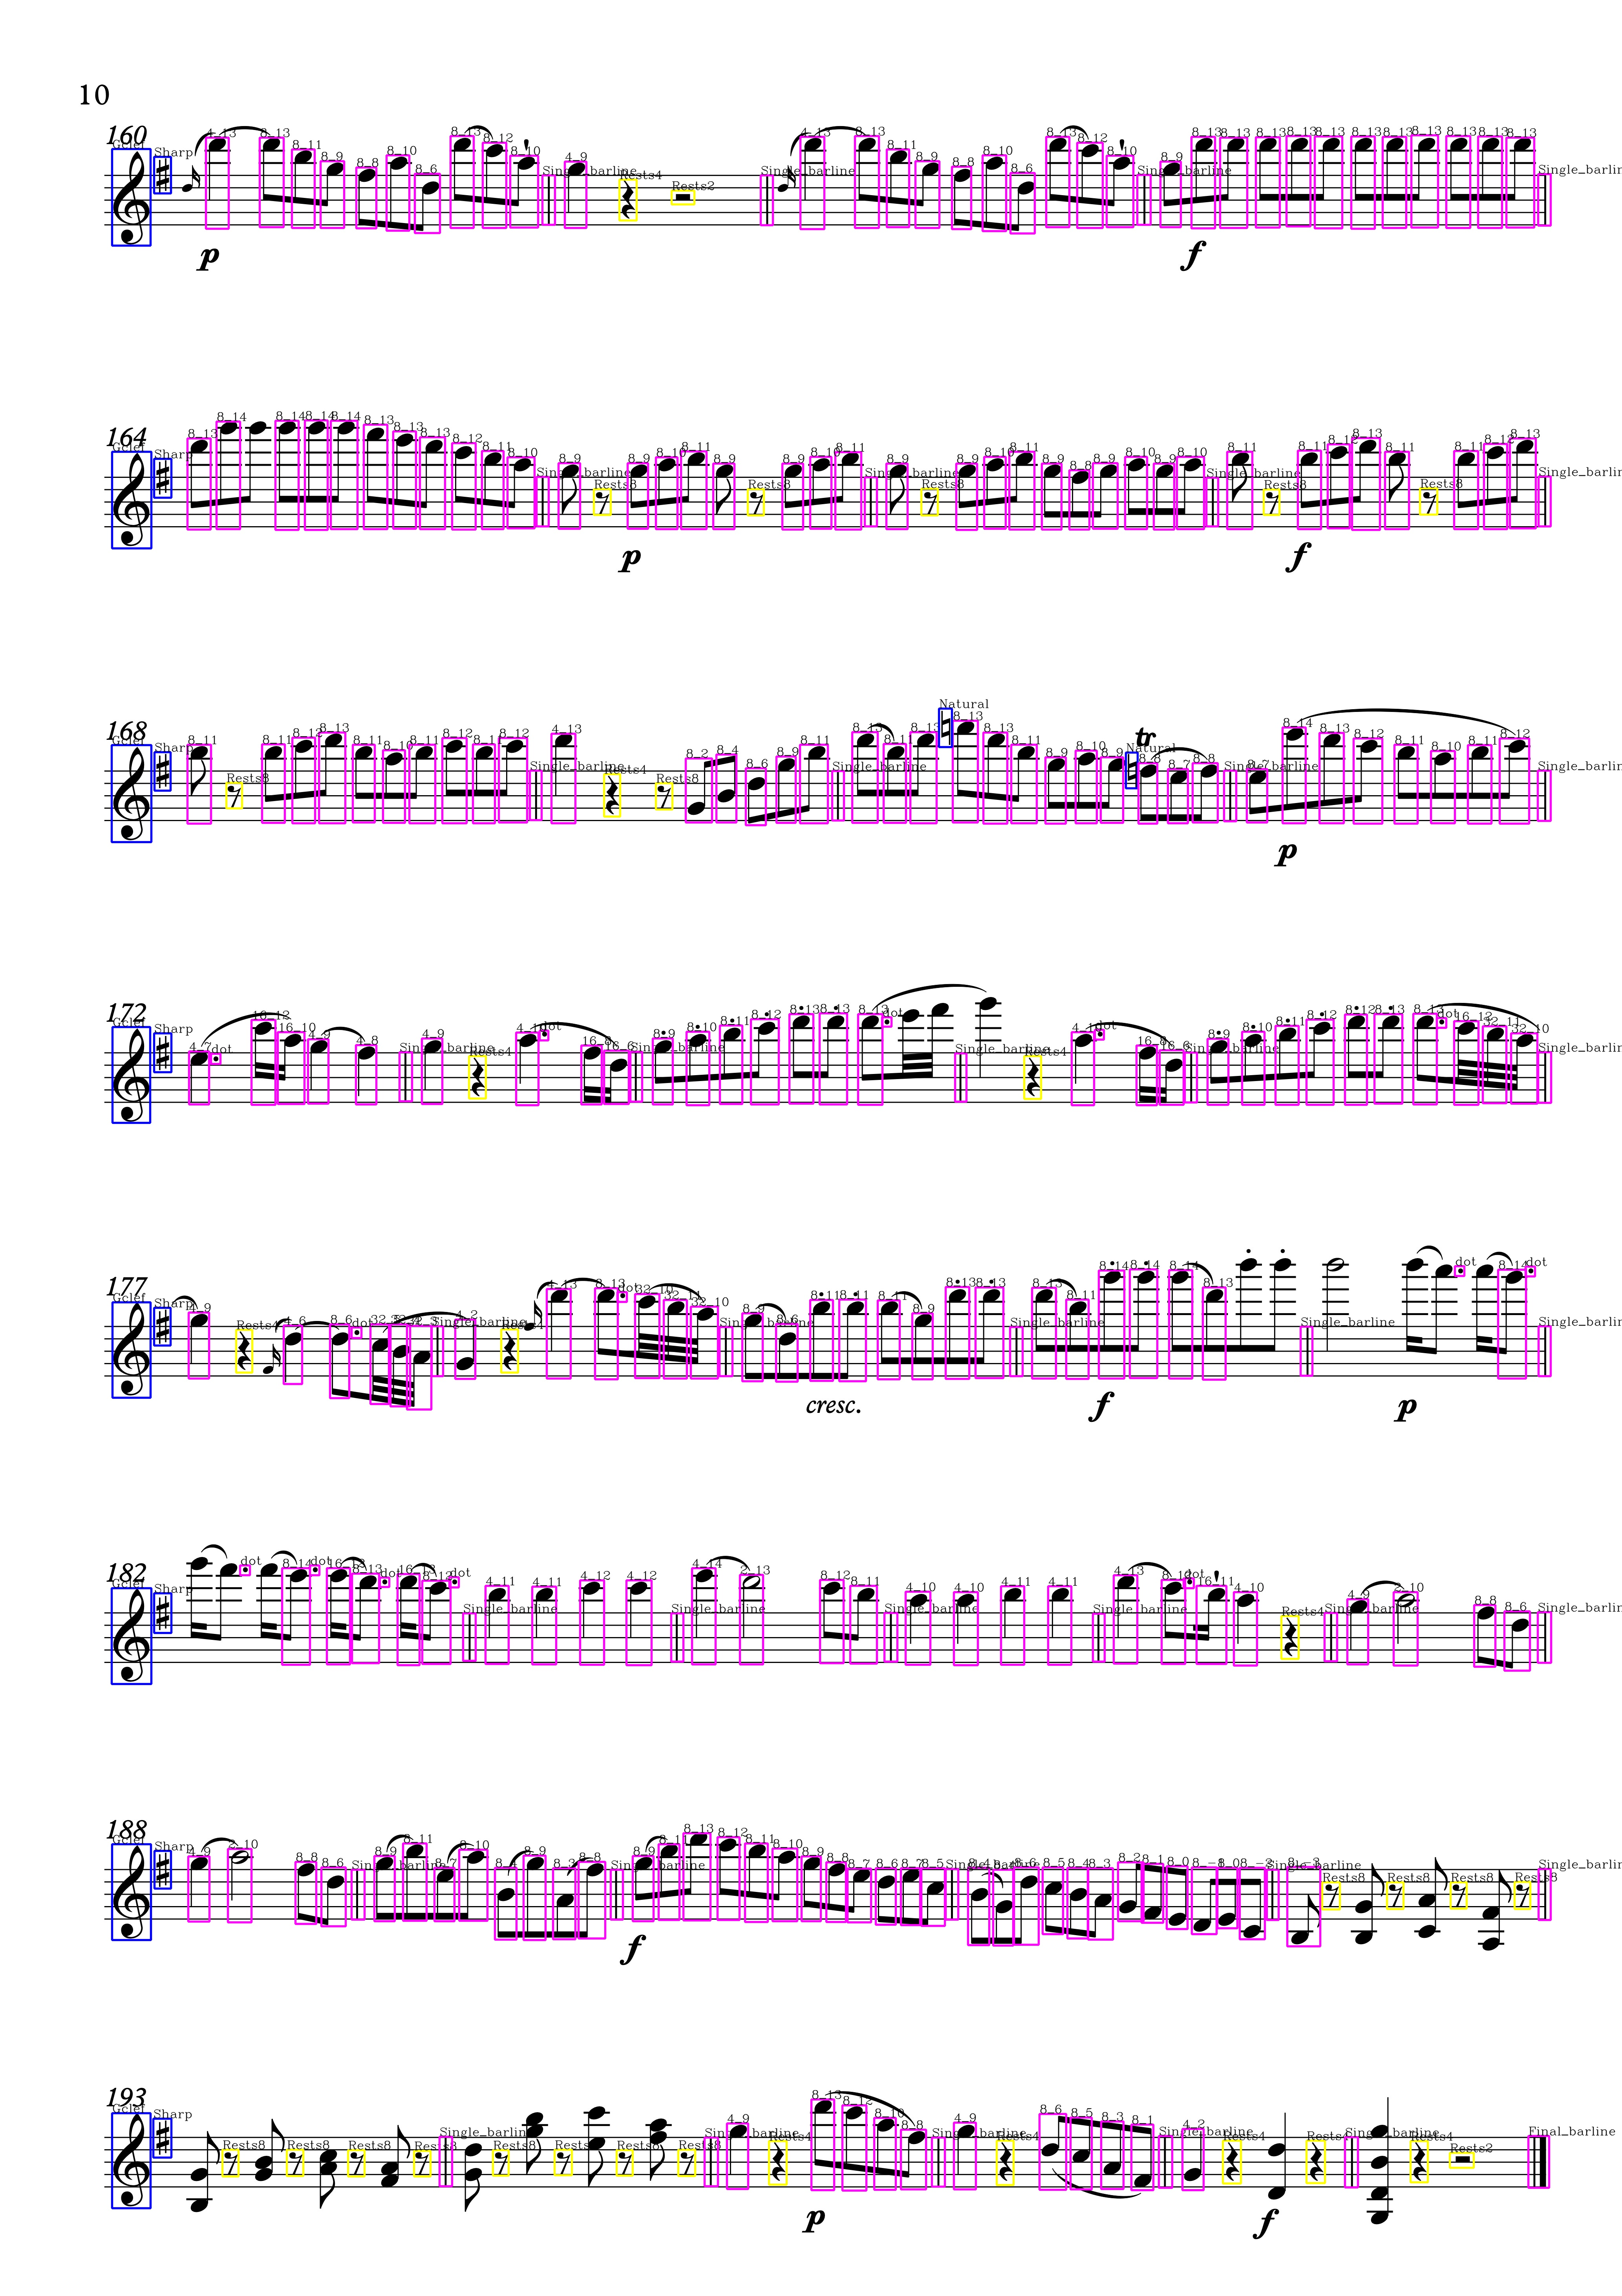16_10: (277, 1032, 304, 1104)
16_11: (1197, 1585, 1227, 1664)
16_12: (327, 1568, 349, 1664), (251, 1020, 276, 1104), (1453, 1022, 1478, 1104)
16_13: (397, 1575, 420, 1666)
16_6: (604, 1050, 628, 1104), (1160, 1050, 1183, 1104)
16_8: (1136, 1046, 1157, 1106), (581, 1046, 602, 1104)
2_10: (1394, 1592, 1417, 1666), (228, 1848, 251, 1922)
2_13: (739, 1575, 764, 1664)
32_10: (635, 1294, 660, 1378), (690, 1306, 718, 1378), (1511, 1034, 1538, 1104)
32_11: (664, 1299, 686, 1378), (1483, 1027, 1506, 1102)
32_3: (407, 1325, 432, 1410)
32_4: (390, 1324, 411, 1406)
32_5: (370, 1324, 388, 1404)
4_10: (953, 1592, 978, 1666), (906, 1592, 930, 1664), (516, 1032, 539, 1106), (1071, 1032, 1094, 1106), (1234, 1592, 1257, 1666)
4_11: (484, 1585, 509, 1664), (532, 1587, 556, 1664), (1001, 1587, 1023, 1664), (1048, 1587, 1071, 1664)
4_12: (627, 1580, 651, 1666), (579, 1580, 604, 1664)
4_13: (551, 734, 576, 823), (546, 1288, 571, 1378), (1113, 1575, 1138, 1664), (205, 137, 228, 228), (800, 137, 823, 228)
4_14: (692, 1568, 716, 1664)
4_2: (1181, 2129, 1204, 2191), (455, 1320, 476, 1378)
4_6: (283, 1325, 302, 1383)
4_7: (190, 1051, 209, 1104)
4_8: (356, 1044, 376, 1104)
4_9: (953, 2122, 976, 2189), (565, 161, 586, 228), (421, 1037, 442, 1104), (188, 1855, 209, 1922), (307, 1039, 328, 1104), (188, 1313, 209, 1378), (1346, 1599, 1367, 1664), (727, 2124, 748, 2189)
8_-1: (1192, 1868, 1216, 1934)
8_-2: (1239, 1868, 1264, 1940)
8_-3: (1287, 1866, 1320, 1947)
8_0: (1216, 1868, 1238, 1927), (1167, 1866, 1187, 1929)
8_1: (1130, 2124, 1153, 2191), (1141, 1864, 1164, 1922)
8_10: (458, 1850, 488, 1920), (1176, 456, 1204, 528), (1106, 156, 1134, 226), (511, 156, 537, 228), (507, 456, 534, 528), (1431, 751, 1455, 823), (772, 1848, 797, 1920), (983, 154, 1006, 232), (386, 154, 409, 230), (383, 750, 405, 823), (686, 1032, 709, 1106), (809, 456, 832, 528), (1241, 1032, 1264, 1104), (1076, 750, 1097, 823), (657, 456, 678, 528), (985, 456, 1006, 528), (1125, 456, 1146, 528), (874, 2117, 895, 2189)
8_11: (800, 744, 829, 823), (839, 1299, 865, 1381), (836, 451, 862, 530), (409, 744, 435, 823), (1011, 744, 1037, 823), (850, 1585, 876, 1664), (1009, 451, 1034, 530), (1468, 744, 1492, 823), (1274, 1025, 1299, 1104), (681, 451, 706, 528), (1227, 451, 1252, 528), (1385, 451, 1410, 528), (1453, 451, 1478, 528), (402, 1843, 427, 1920), (809, 1299, 832, 1381), (291, 149, 314, 228), (188, 744, 211, 823), (262, 744, 284, 823), (472, 744, 495, 823), (883, 744, 906, 823), (1394, 744, 1417, 823), (720, 1025, 743, 1104), (1066, 1299, 1088, 1378), (744, 1843, 767, 1922), (886, 149, 909, 226), (481, 451, 504, 528), (1297, 451, 1320, 528), (878, 1301, 899, 1380), (353, 744, 374, 822), (658, 1845, 679, 1920)
8_12: (1499, 739, 1529, 823), (421, 1580, 451, 1664), (499, 737, 527, 822), (1353, 739, 1382, 823), (751, 1020, 779, 1104), (1306, 1020, 1334, 1104), (451, 442, 476, 530), (1078, 142, 1102, 228), (442, 737, 467, 823), (1345, 1015, 1367, 1104), (483, 142, 506, 228), (291, 737, 314, 823), (843, 2105, 865, 2191), (1327, 444, 1350, 528), (1483, 444, 1506, 528), (1162, 1580, 1185, 1664), (820, 1580, 843, 1662), (718, 1836, 739, 1920)
8_13: (1352, 437, 1380, 530), (1315, 137, 1343, 228), (1506, 137, 1534, 228), (1374, 1015, 1403, 1104), (351, 1573, 379, 1662), (953, 720, 978, 822), (683, 1833, 711, 1920), (1411, 135, 1438, 228), (1220, 137, 1246, 228), (319, 732, 346, 823), (851, 732, 878, 823), (909, 732, 936, 823), (820, 1013, 846, 1104), (976, 1287, 1002, 1378), (1510, 439, 1536, 528), (855, 135, 879, 228), (1255, 137, 1280, 228), (1478, 137, 1503, 228), (420, 437, 444, 528), (983, 732, 1008, 823), (858, 1015, 883, 1104), (451, 135, 474, 228), (1446, 135, 1469, 228), (1202, 1287, 1225, 1380), (1192, 137, 1215, 228), (1287, 135, 1310, 226), (1352, 137, 1374, 228), (1383, 137, 1406, 228), (188, 439, 211, 530), (1320, 732, 1343, 823), (1413, 1013, 1436, 1104), (595, 1288, 618, 1380), (946, 1287, 969, 1378), (811, 2099, 834, 2191), (260, 137, 283, 226), (1046, 137, 1069, 226), (790, 1015, 813, 1104), (1032, 1288, 1055, 1378)
8_13_error: (363, 425, 388, 528), (393, 432, 416, 528)
8_14: (1497, 1269, 1525, 1378), (1130, 1269, 1157, 1378), (1099, 1271, 1123, 1378), (283, 1568, 309, 1664), (1169, 1269, 1192, 1378), (1283, 727, 1306, 823)
8_14_error: (330, 421, 358, 528), (216, 421, 240, 528), (305, 420, 328, 530), (276, 421, 298, 530)
8_2: (686, 758, 713, 822), (1118, 1862, 1143, 1920)
8_3: (1088, 1868, 1113, 1940), (553, 1868, 576, 1940), (1101, 2120, 1123, 2189)
8_4: (967, 1868, 988, 1945), (495, 1868, 516, 1940), (1067, 1868, 1088, 1938), (994, 1869, 1013, 1945), (716, 755, 736, 822)
8_5: (1071, 2117, 1092, 2189), (922, 1868, 944, 1926), (1043, 1868, 1062, 1934)
8_6: (1039, 2113, 1066, 2189), (1015, 1868, 1039, 1945), (414, 174, 441, 233), (1504, 1611, 1529, 1671), (330, 1324, 349, 1397), (321, 1868, 346, 1926), (1011, 172, 1034, 233), (776, 1324, 797, 1381), (746, 769, 765, 825), (876, 1868, 895, 1924)
8_7: (848, 1868, 871, 1922), (1167, 769, 1188, 823), (901, 1868, 920, 1926), (1246, 769, 1267, 822), (434, 1868, 455, 1920)
8_8: (578, 1862, 606, 1938), (1192, 764, 1218, 822), (901, 2129, 925, 2189), (1475, 1604, 1496, 1666), (295, 1862, 316, 1924), (356, 167, 376, 228), (951, 167, 971, 228), (1069, 470, 1088, 530), (1138, 764, 1157, 823), (827, 1862, 846, 1922)
8_9: (523, 1855, 546, 1940), (1092, 463, 1118, 528), (915, 161, 939, 228), (321, 161, 344, 228), (1101, 757, 1123, 823), (957, 463, 978, 530), (1041, 463, 1062, 530), (1153, 463, 1174, 530), (1044, 757, 1066, 823), (1160, 161, 1181, 226), (558, 463, 579, 528), (627, 463, 648, 528), (713, 463, 734, 528), (886, 463, 908, 528), (1208, 1039, 1229, 1104), (374, 1855, 395, 1920), (632, 1855, 653, 1920), (743, 1313, 762, 1381), (783, 463, 802, 530), (776, 757, 795, 823), (653, 1037, 672, 1104), (913, 1313, 932, 1380), (802, 1855, 820, 1920)
Final_barline: (1529, 2136, 1548, 2187)
Gclef: (112, 744, 151, 843), (112, 149, 151, 246), (112, 451, 151, 548), (112, 1302, 151, 1397), (112, 1589, 151, 1683), (112, 1845, 151, 1940), (112, 2113, 151, 2208), (112, 1027, 149, 1123)
Natural: (939, 709, 951, 746), (1125, 753, 1138, 788)
Rests2: (1450, 2152, 1473, 2168), (671, 190, 693, 204)
Rests4: (1306, 2140, 1325, 2184), (235, 1329, 253, 1373), (500, 1329, 518, 1373), (1224, 2140, 1241, 2184), (469, 1057, 486, 1099), (1023, 1057, 1041, 1099), (1281, 1617, 1299, 1659), (769, 2142, 786, 2184), (997, 2140, 1013, 2185), (620, 179, 637, 219), (1410, 2142, 1427, 2182), (604, 774, 620, 816)
Rests8: (1322, 1882, 1339, 1910), (1420, 488, 1438, 514), (286, 2150, 304, 2177), (348, 2150, 365, 2177), (678, 2150, 695, 2177), (922, 488, 937, 516), (593, 490, 611, 514), (555, 2150, 572, 2175), (748, 490, 764, 516), (657, 783, 672, 809), (1387, 1882, 1403, 1908), (1450, 1882, 1466, 1908), (1515, 1882, 1531, 1908), (223, 2150, 239, 2177), (414, 2150, 430, 2177), (1264, 490, 1280, 514), (226, 783, 242, 807), (493, 2150, 509, 2175), (616, 2150, 632, 2175)
Sharp: (153, 2119, 172, 2157), (154, 458, 172, 497), (154, 1034, 172, 1073), (154, 1594, 172, 1632), (154, 751, 170, 790), (154, 1850, 170, 1889), (154, 156, 170, 193), (154, 1308, 170, 1345)
Single_barline: (1538, 1051, 1552, 1102), (1538, 1611, 1552, 1662), (1159, 2136, 1173, 2187), (398, 1051, 413, 1101), (351, 1869, 365, 1919), (1324, 1613, 1338, 1661), (704, 2138, 718, 2185), (1538, 174, 1550, 225), (1538, 476, 1550, 527), (1224, 771, 1236, 822), (1538, 771, 1550, 822), (1538, 1325, 1550, 1376), (1538, 1869, 1550, 1920), (1345, 2136, 1357, 2187), (542, 176, 555, 225), (760, 176, 772, 225), (1138, 176, 1150, 225), (1206, 477, 1218, 527), (832, 771, 844, 820), (630, 1051, 642, 1101), (1185, 1053, 1197, 1102), (720, 1327, 732, 1376), (1009, 1327, 1022, 1376), (1301, 1327, 1313, 1376), (611, 1869, 623, 1919), (946, 1869, 958, 1919), (439, 2136, 451, 2185), (932, 2138, 944, 2187), (463, 1613, 476, 1661), (671, 1613, 683, 1661), (885, 1613, 897, 1661), (1092, 1613, 1104, 1661), (432, 1325, 442, 1376), (1267, 1869, 1278, 1920), (537, 477, 548, 527), (865, 477, 876, 527), (530, 771, 541, 820), (955, 1053, 965, 1101)
dot: (881, 1016, 892, 1027), (351, 1327, 362, 1338), (1183, 1578, 1194, 1589), (211, 1053, 219, 1064), (539, 1030, 548, 1041), (1436, 1018, 1446, 1027), (618, 1292, 627, 1302), (1455, 1266, 1464, 1276), (1525, 1266, 1534, 1276), (309, 1566, 319, 1575), (379, 1578, 390, 1587), (449, 1576, 458, 1587), (1095, 1030, 1104, 1039), (240, 1566, 249, 1575)
